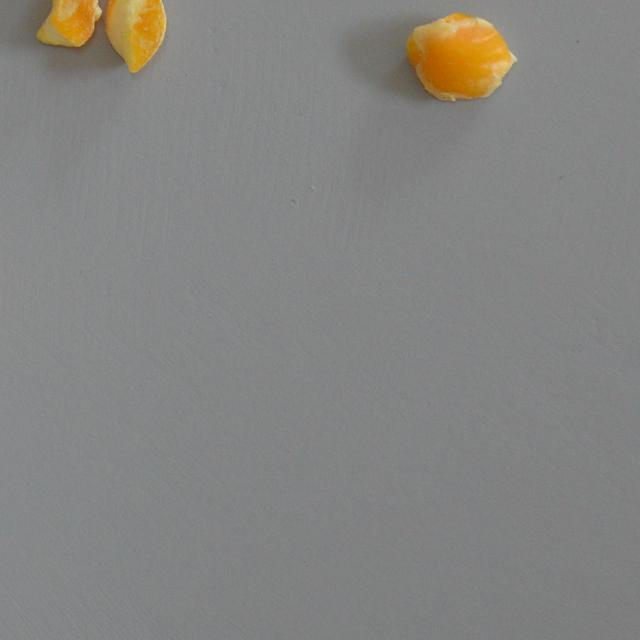pelicula: (402, 12, 520, 106), (96, 0, 182, 81), (32, 0, 106, 48)
